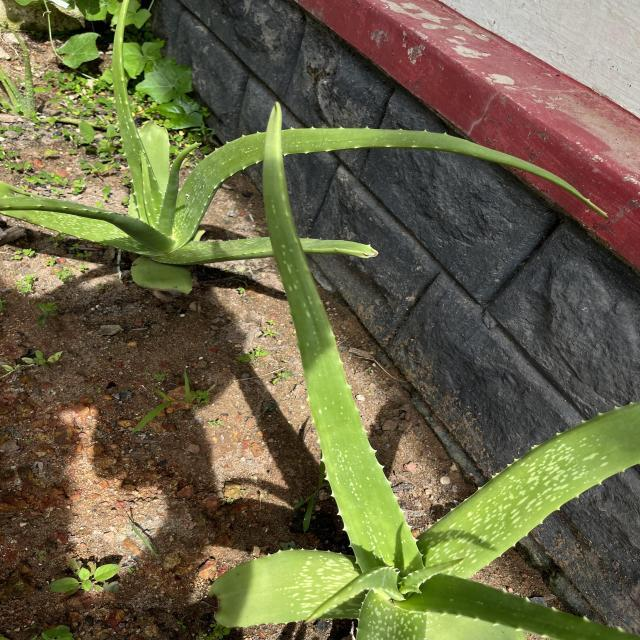Aloe vera: (256, 102, 414, 573), (112, 0, 164, 225)
